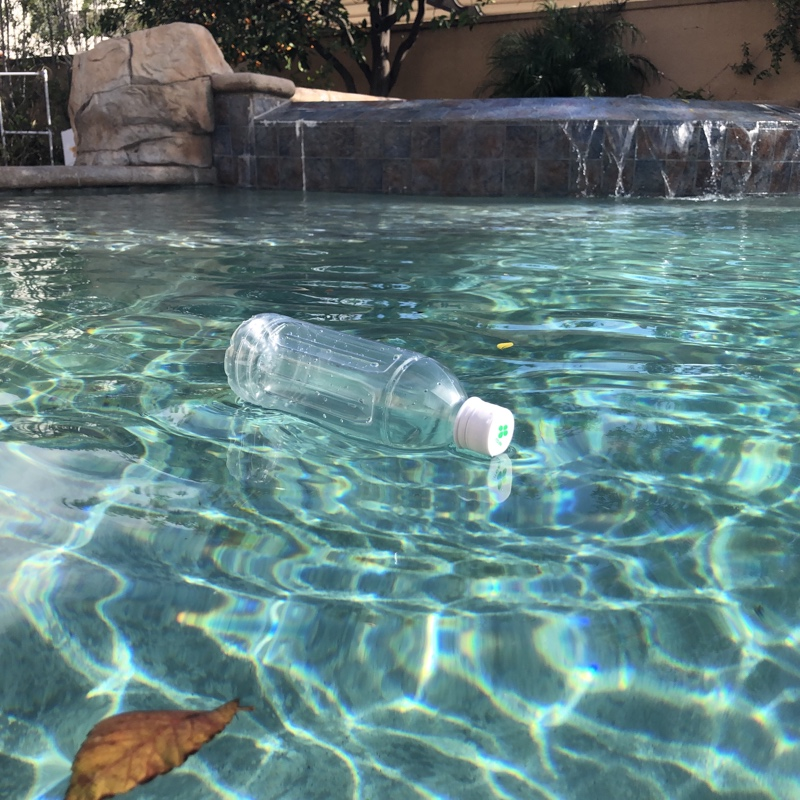Plastic Bottle: (211, 305, 520, 463)
